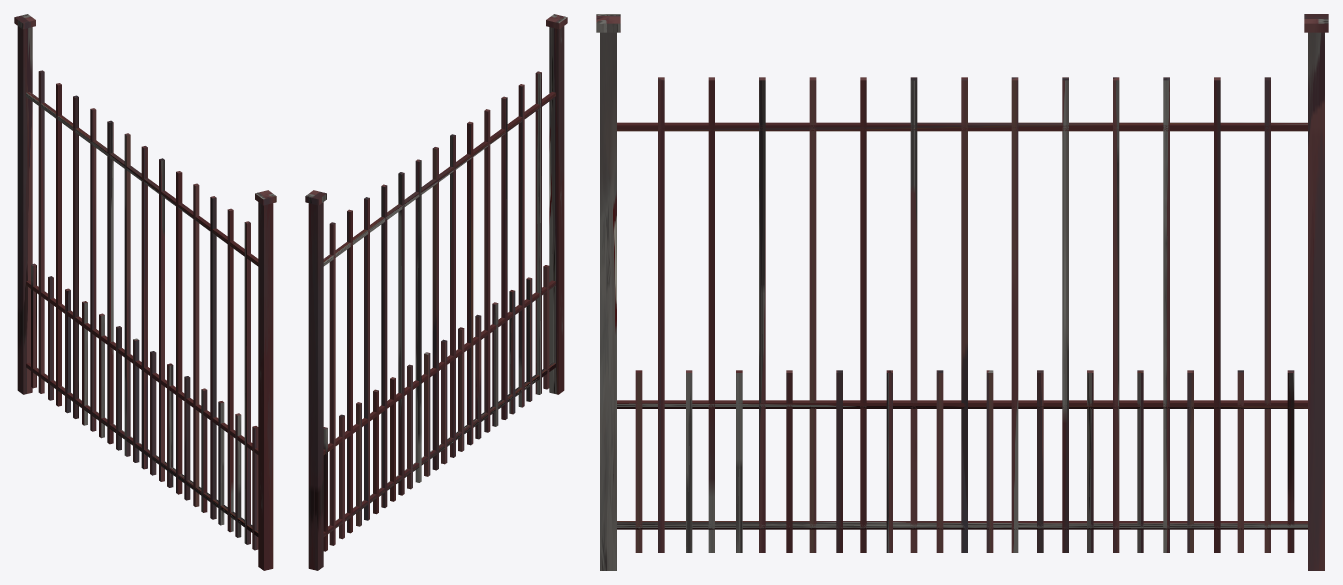
The model's file is fence 1.fbx.
The picture shows the model from 3 angles, left to right: view 1: azimuth 30°, elevation 25°; view 2: azimuth 150°, elevation 25°; view 3: azimuth 270°, elevation 25°; orthographic projection. The views are drawn at different scales.
Visible parts, largest first — view 1: fence 1; view 2: fence 1; view 3: fence 1.
Part boxes in pixels (x1,y1,x2,y2): fence 1: (14,14,276,570); fence 1: (305,14,567,570); fence 1: (596,14,1328,570).
Bounding box in the file's own units: 58.2 × 1550 × 1875.
